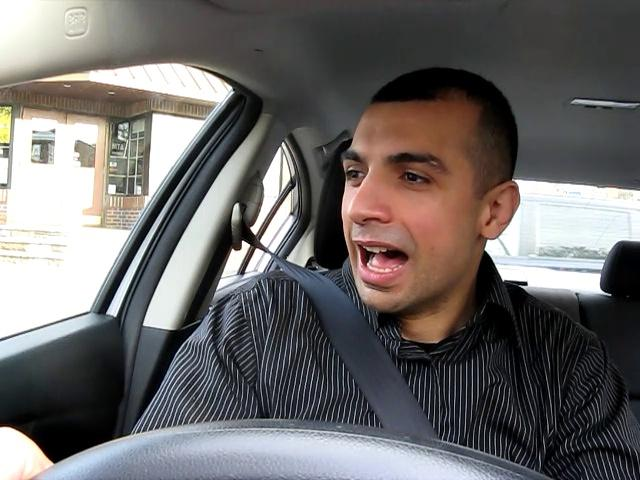close_eyeL: (337, 160, 374, 188)
close_eyeR: (385, 159, 450, 194)
yawn: (334, 232, 428, 291)
